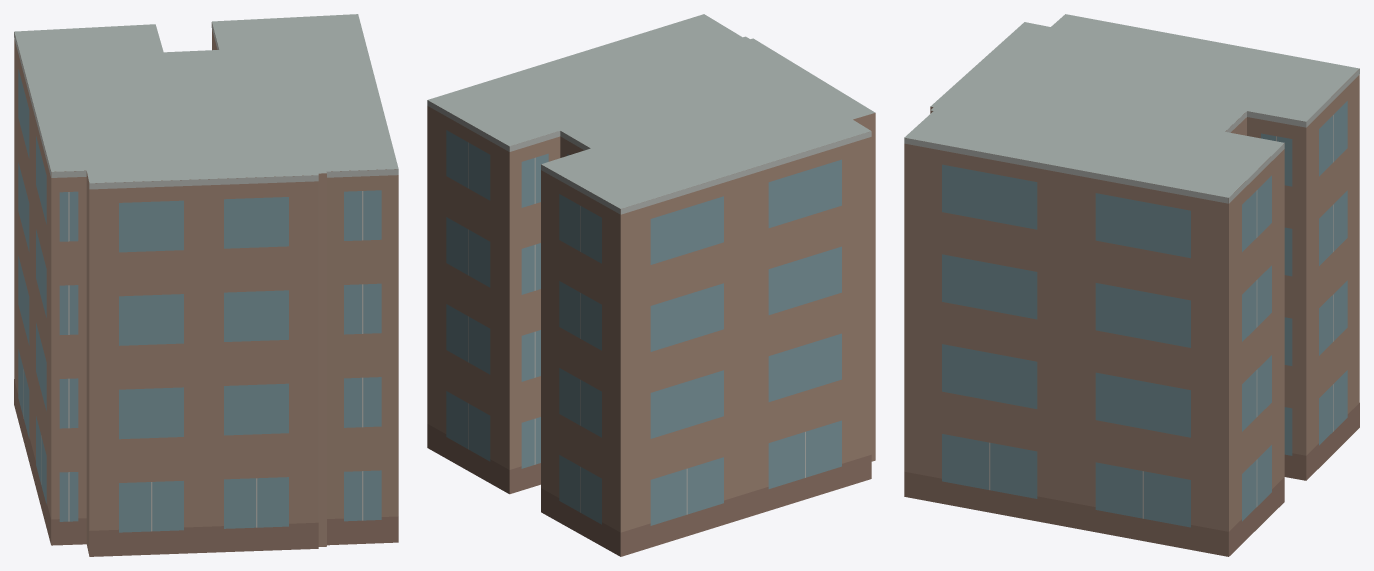
The model's file is survey-upis-32664342.glb.
3 views of the same model, side by side, from view 1: azimuth 30°, elevation 25°; view 2: azimuth 150°, elevation 25°; view 3: azimuth 270°, elevation 25° (orthographic). The views are drawn at different scales.
Parts seen in each view (by area): view 1: survey-upis-32664342.tmp; view 2: survey-upis-32664342.tmp; view 3: survey-upis-32664342.tmp.
Part boxes in pixels (bbox=[...]): survey-upis-32664342.tmp: bbox=[14, 14, 398, 556]; survey-upis-32664342.tmp: bbox=[427, 14, 875, 556]; survey-upis-32664342.tmp: bbox=[904, 14, 1359, 556].
Bounding box in the file's own units: 16.32 × 14.85 × 17.09.
